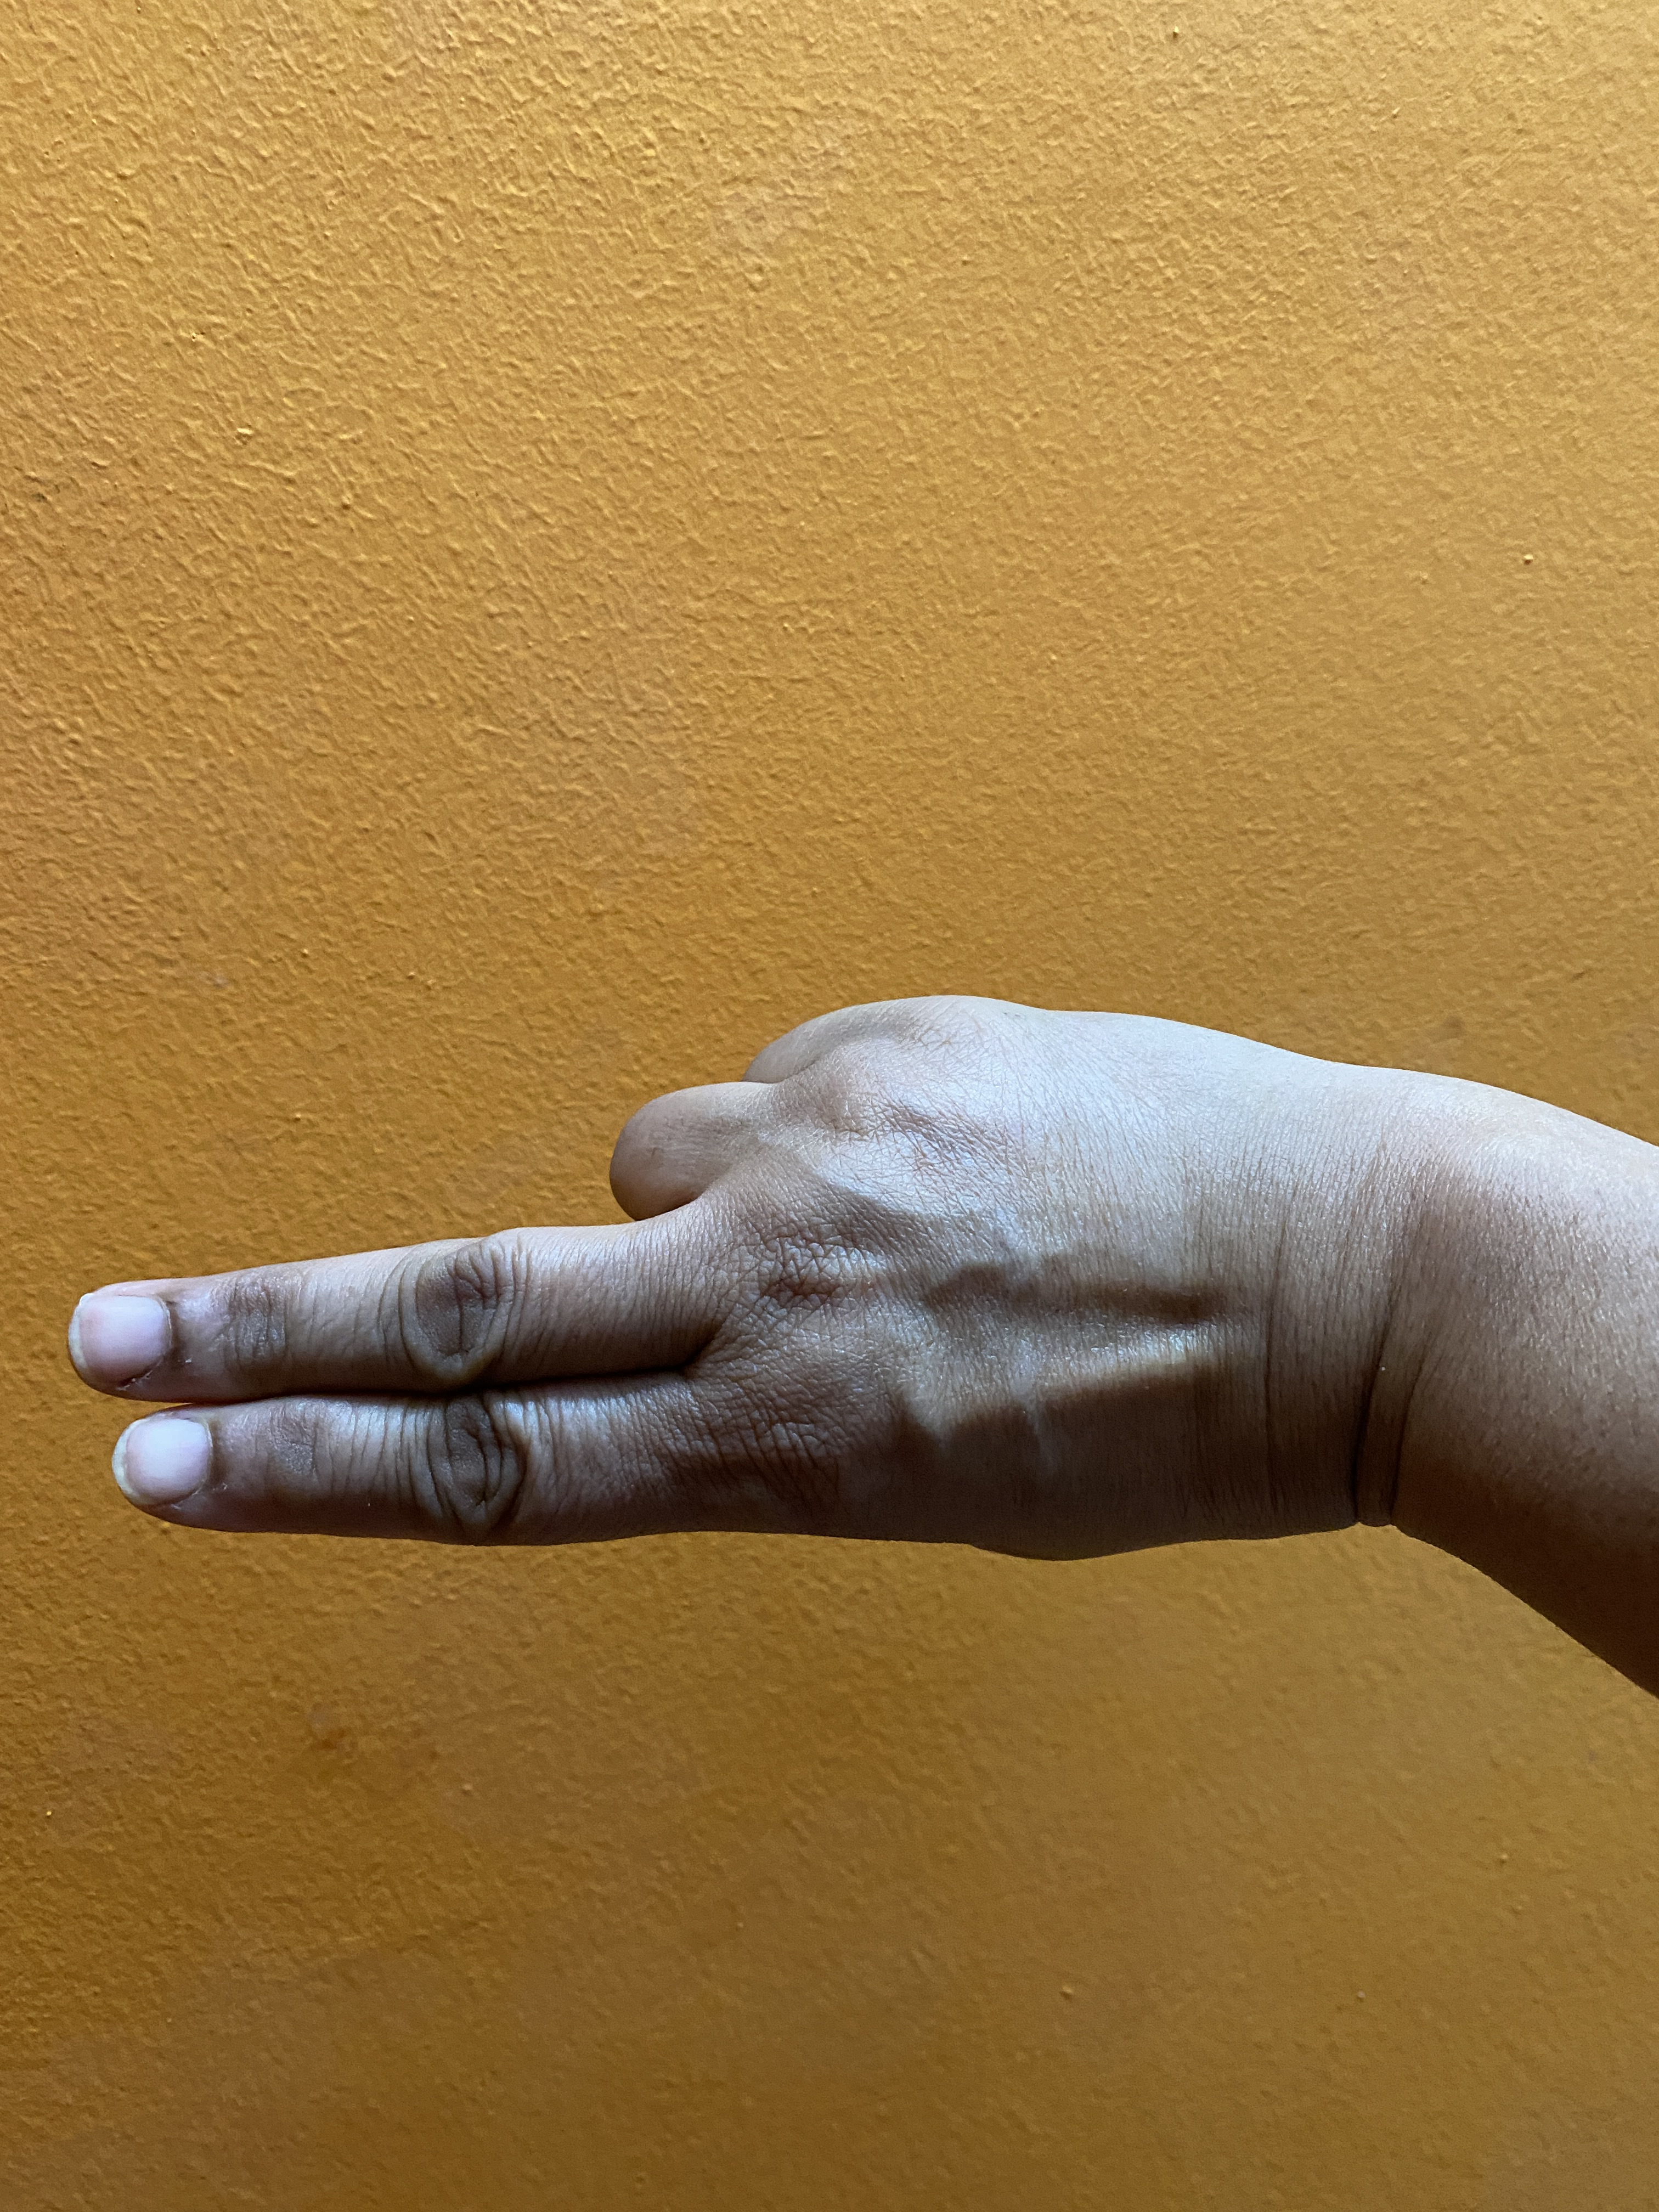right: (42, 702, 1659, 1797)
